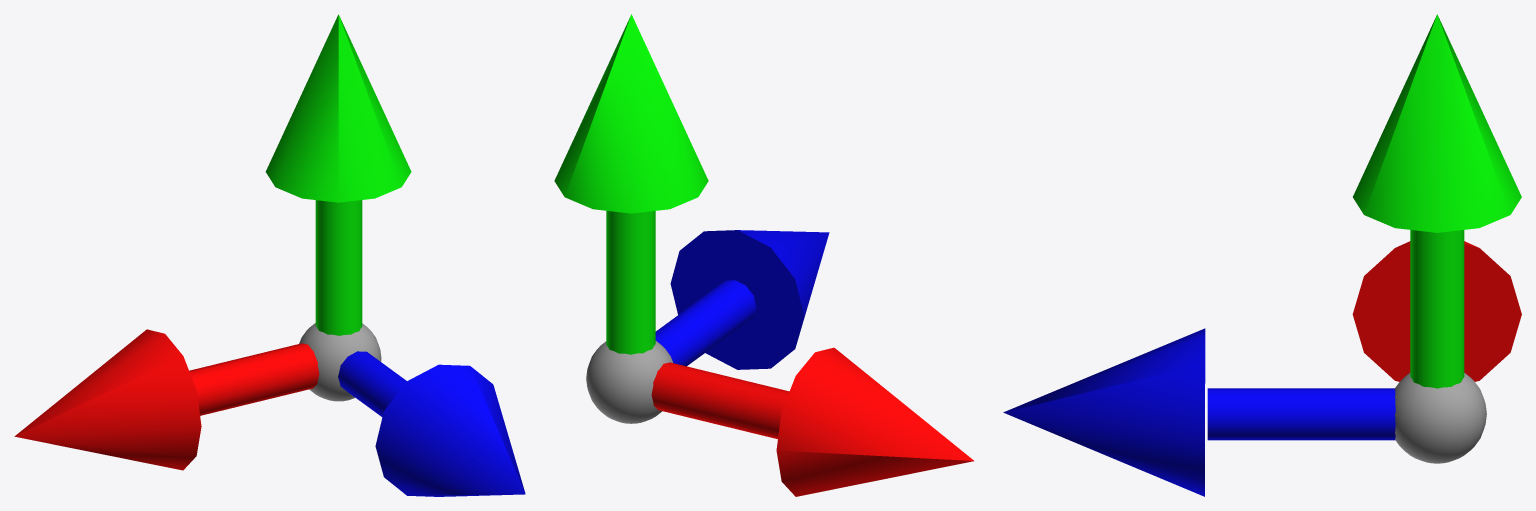
File: Axis.fbx
The picture shows the model from 3 angles, left to right: view 1: azimuth 30°, elevation 25°; view 2: azimuth 150°, elevation 25°; view 3: azimuth 270°, elevation 25°; orthographic projection. The views are drawn at different scales.
Parts seen in each view (by area): view 1: Y-axis, X-axis, Z-axis, Origin; view 2: Y-axis, X-axis, Z-axis, Origin; view 3: Y-axis, Z-axis, X-axis, Origin.
Boxes of the visible parts, x1,y1,x2,y2 form: Y-axis: [265, 14, 411, 335]; X-axis: [14, 329, 319, 470]; Z-axis: [338, 351, 525, 496]; Origin: [299, 323, 381, 401]; Y-axis: [554, 14, 708, 354]; X-axis: [651, 347, 973, 496]; Z-axis: [655, 230, 829, 369]; Origin: [586, 341, 673, 423]; Y-axis: [1353, 14, 1521, 388]; Z-axis: [1003, 328, 1395, 496]; X-axis: [1352, 241, 1521, 381]; Origin: [1395, 373, 1486, 463].
Bounding box in the file's own units: 30.16 × 30.47 × 30.14.
